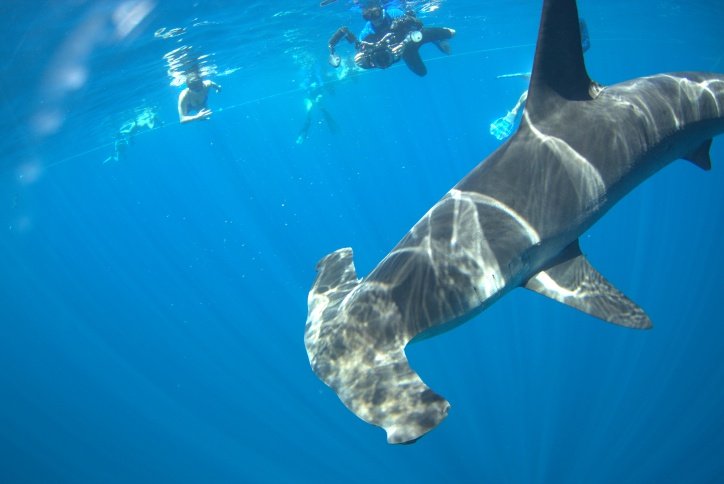Hammer: (295, 1, 721, 451)
